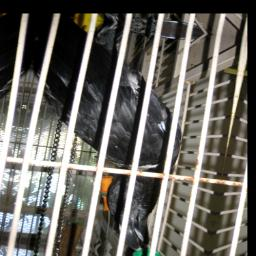Crow: (2, 14, 201, 254)
